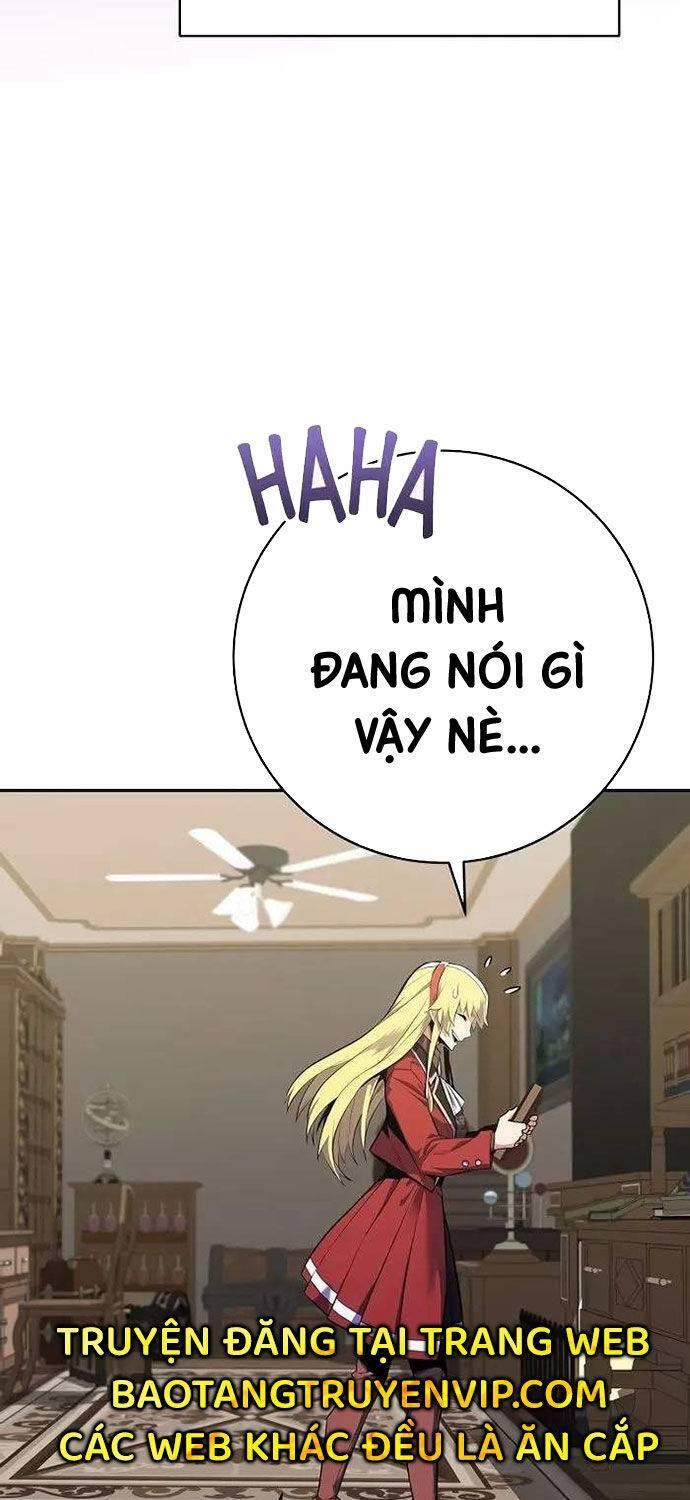quangcao: (50, 1314, 662, 1474)
